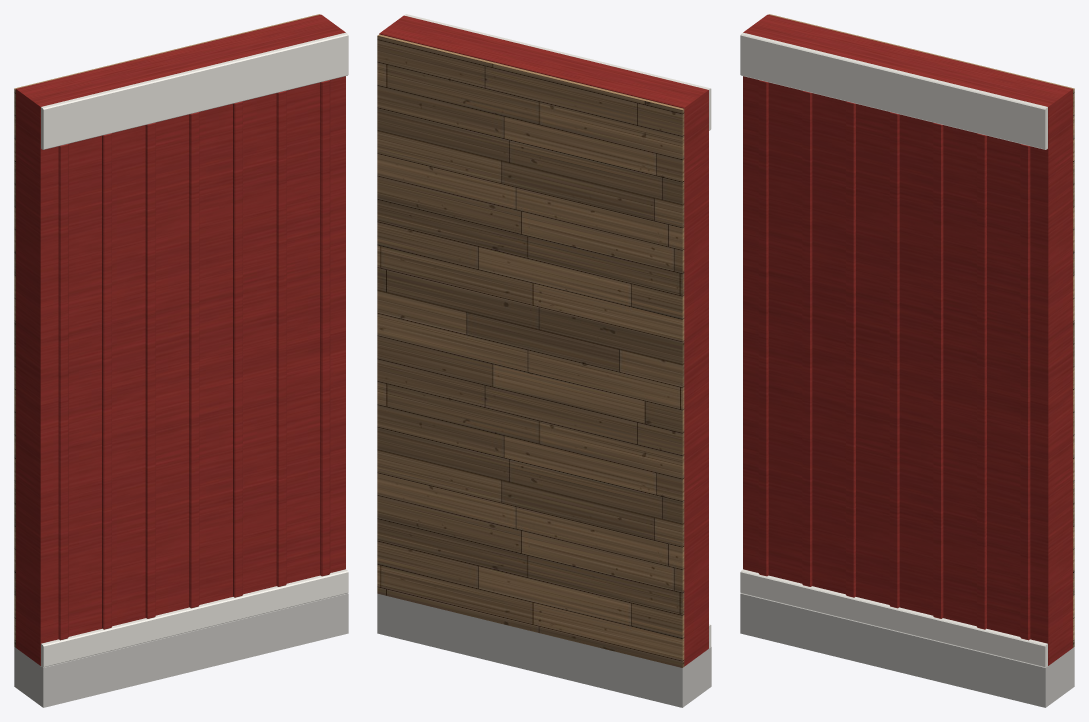
File: barn_wall_plain.glb
The picture shows the model from 3 angles, left to right: view 1: azimuth 30°, elevation 25°; view 2: azimuth 150°, elevation 25°; view 3: azimuth 330°, elevation 25°; orthographic projection.
Parts seen in each view (by area): view 1: barn_wall_plain_barn, barn_wall_plain_trim, barn_wall_plain_concrete, barn_wall_plain_planks; view 2: barn_wall_plain_planks, barn_wall_plain_barn, barn_wall_plain_concrete, barn_wall_plain_trim; view 3: barn_wall_plain_barn, barn_wall_plain_trim, barn_wall_plain_concrete, barn_wall_plain_planks.
Boxes of the visible parts, left/top/right/bottom form: barn_wall_plain_barn: left=16, top=14, right=345, bottom=665; barn_wall_plain_trim: left=41, top=32, right=348, bottom=667; barn_wall_plain_concrete: left=14, top=593, right=348, bottom=707; barn_wall_plain_planks: left=14, top=14, right=319, bottom=647; barn_wall_plain_planks: left=377, top=34, right=684, bottom=667; barn_wall_plain_barn: left=379, top=15, right=708, bottom=666; barn_wall_plain_concrete: left=377, top=593, right=711, bottom=707; barn_wall_plain_trim: left=404, top=14, right=711, bottom=648; barn_wall_plain_barn: left=743, top=14, right=1072, bottom=665; barn_wall_plain_trim: left=740, top=32, right=1047, bottom=667; barn_wall_plain_concrete: left=740, top=593, right=1074, bottom=707; barn_wall_plain_planks: left=769, top=14, right=1074, bottom=647.
Size of the model in its own units: 2 by 3.75 by 0.33.
4 materials, 2 textured.
